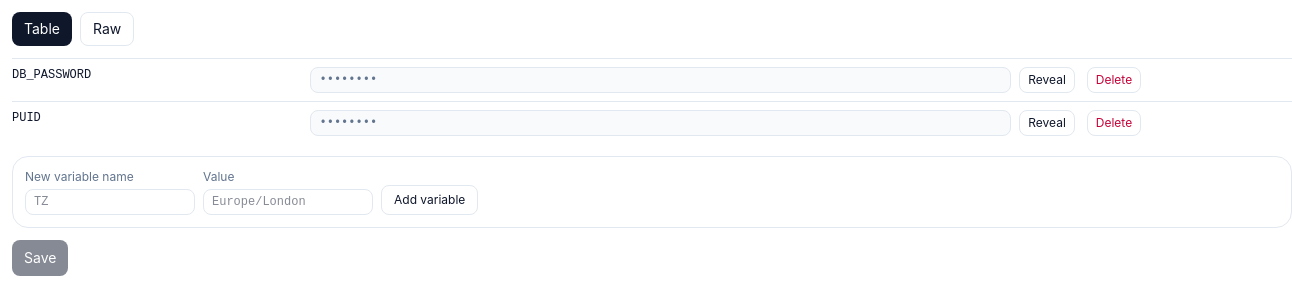
EnvTab › does not reveal another row — asserted on the request, not just the DOM
The width and height of the screenshot is (1292, 293).
Check: the text "DB_PASSWORD" is shown, box [12,58,310,102]
Click the button "Reveal" in the row of "DB_PASSWORD". click: (1047, 80)
box: [1019,67,1075,93]
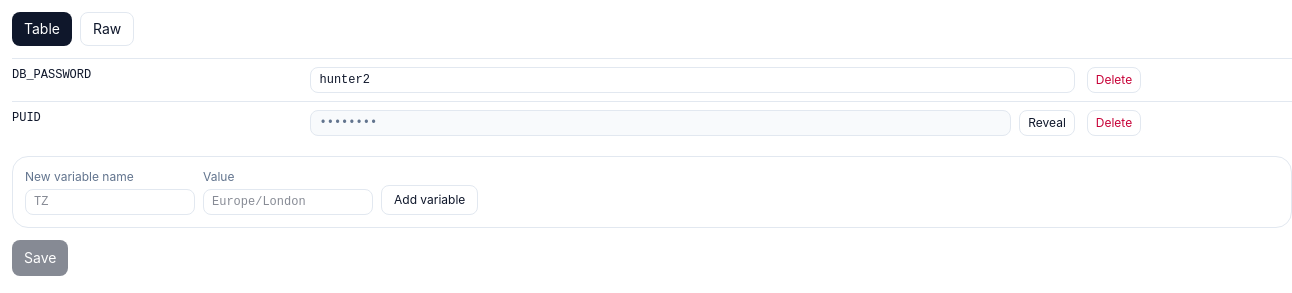
Check: the field showing "hunter2" is shown, box [310,67,1075,93]
